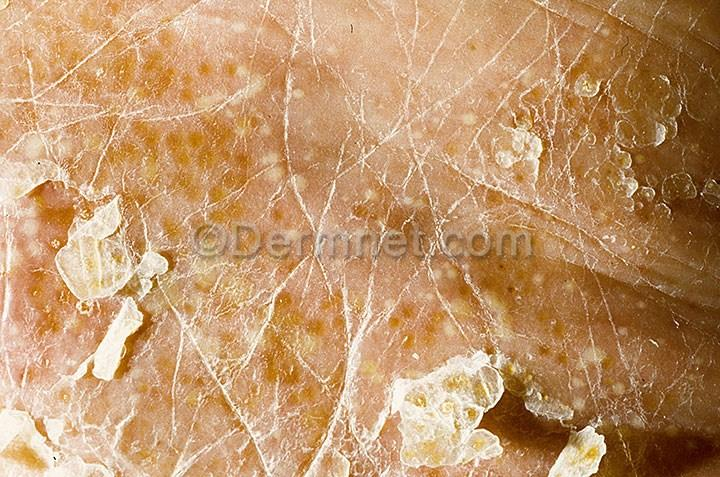Eczema: (0, 3, 720, 477)
